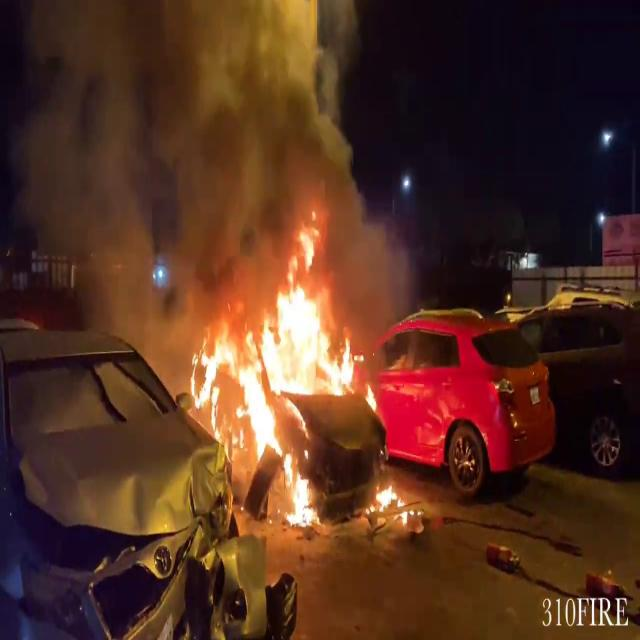Fire: (184, 226, 364, 523), (366, 477, 414, 525)
Smoke: (1, 0, 408, 328)
